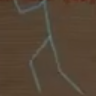hacks_2: (12, 1, 85, 95)
